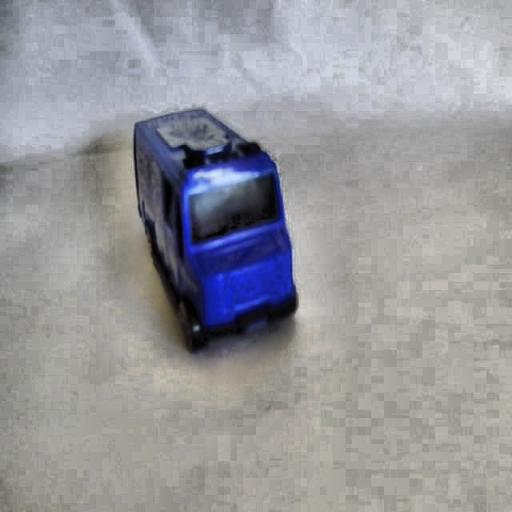police car: (132, 115, 303, 354)
